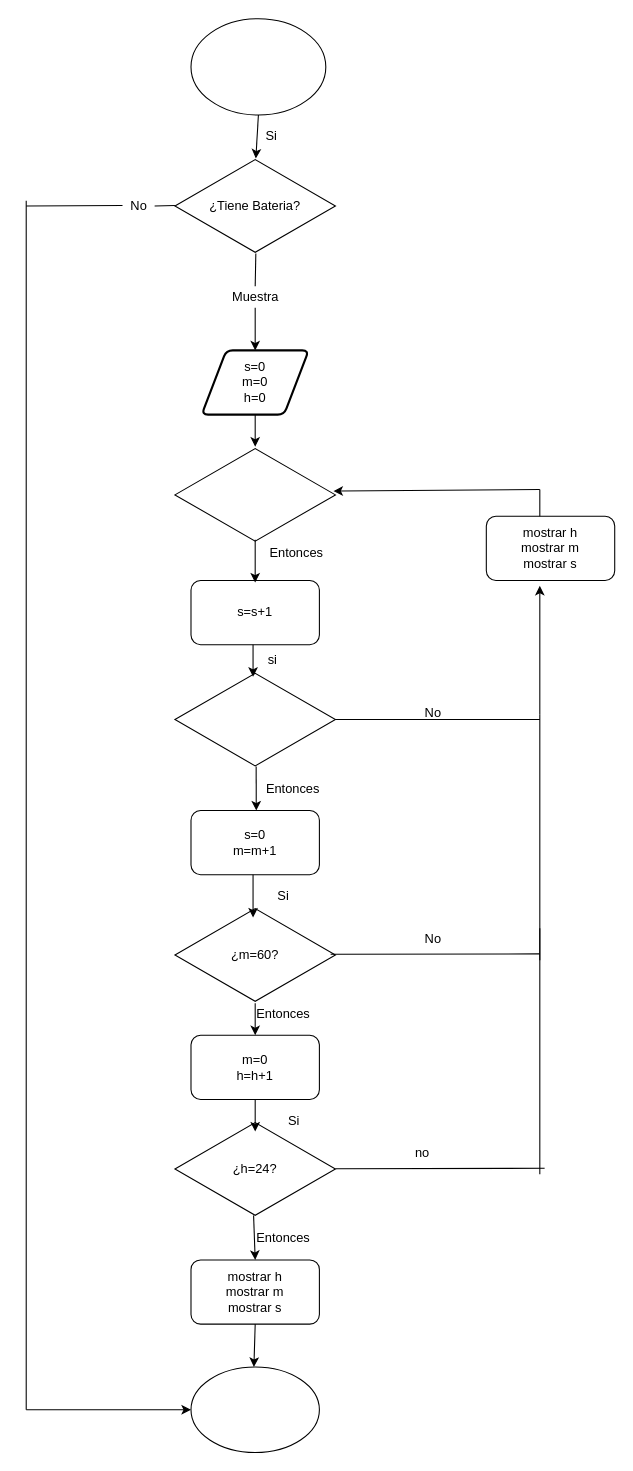
This 633x1471 diagram has some shape labels left out. Here are the shapes that lost their labels. From the top down, the centre of each, then its label:
point 258,66: Inicio (Reloj para un dia, considerando que ya esta seteada la hora)
point 254,494: ¿Paso un segundo?
point 254,719: ¿s=60?
point 254,1409: FIN
